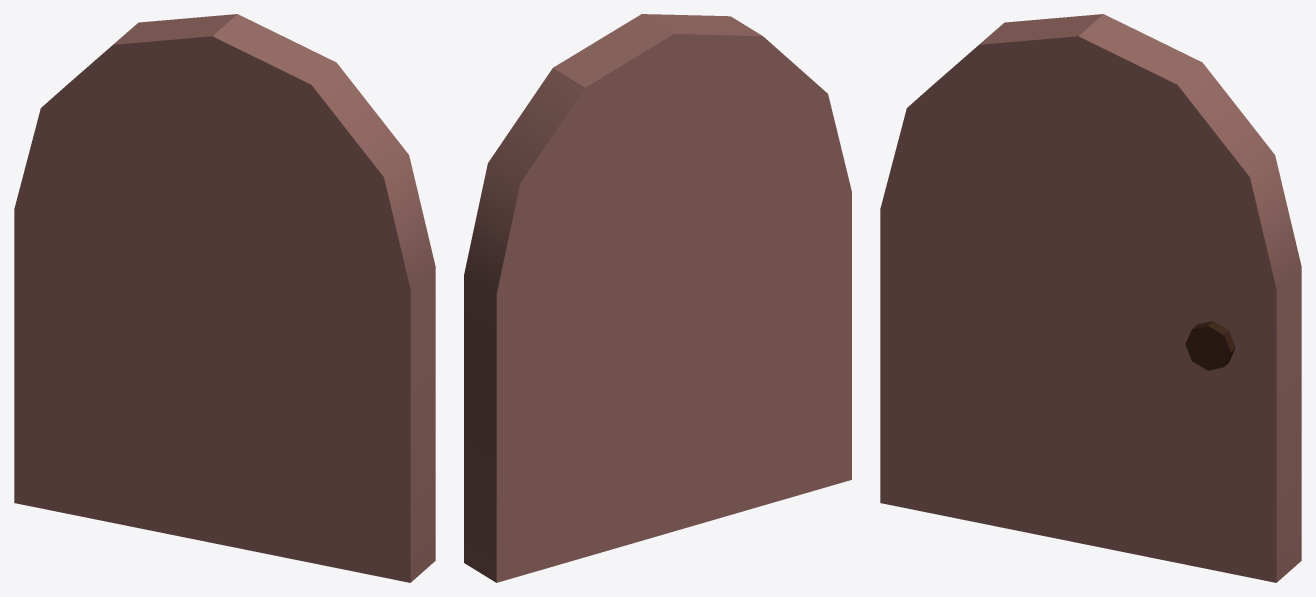
Rendered from Collider_Door.fbx.
The picture shows the model from 3 angles, left to right: view 1: azimuth 90°, elevation 25°; view 2: azimuth 150°, elevation 25°; view 3: azimuth 270°, elevation 25°; orthographic projection.
Parts seen in each view (by area): view 1: Collider_Door; view 2: Collider_Door; view 3: Collider_Door.
Boxes of the visible parts, bbox=[...] form: Collider_Door: bbox=[14, 14, 435, 582]; Collider_Door: bbox=[464, 14, 851, 582]; Collider_Door: bbox=[880, 14, 1301, 582].
Size of the model in its own units: 116 by 269 by 202.
